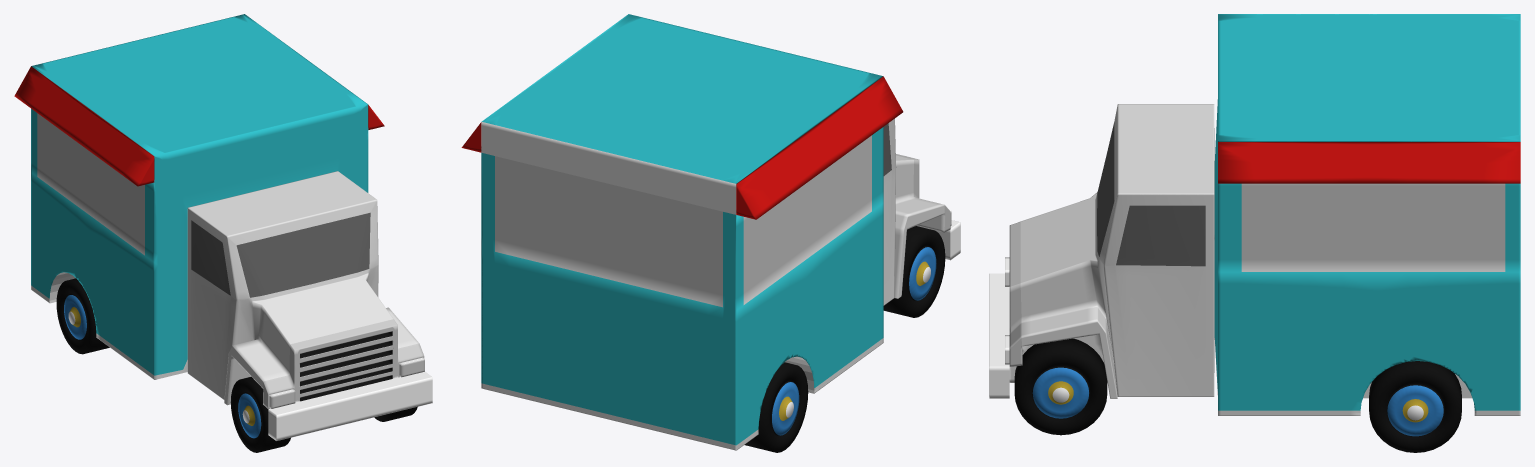
File: camion1.obj
The picture shows the model from 3 angles, left to right: view 1: azimuth 30°, elevation 25°; view 2: azimuth 150°, elevation 25°; view 3: azimuth 270°, elevation 25°; orthographic projection. The views are drawn at different scales.
Visible parts, largest first — view 1: Cube, Cylinder, Cylinder.002_Cylinder.003; view 2: Cube, Cylinder.002_Cylinder.003, Cylinder; view 3: Cube, Cylinder, Cylinder.002_Cylinder.003.
Boxes of the visible parts, bbox=[...] form: Cube: bbox=[14, 14, 432, 440]; Cylinder: bbox=[230, 376, 417, 452]; Cylinder.002_Cylinder.003: bbox=[56, 278, 109, 354]; Cube: bbox=[461, 14, 960, 450]; Cylinder.002_Cylinder.003: bbox=[745, 362, 808, 452]; Cylinder: bbox=[883, 226, 945, 317]; Cube: bbox=[989, 14, 1520, 415]; Cylinder: bbox=[1014, 338, 1107, 435]; Cylinder.002_Cylinder.003: bbox=[1369, 361, 1461, 452].
Size of the model in its own units: 2.31 by 2.28 by 3.51.
